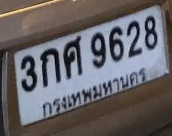num3: (19, 53, 38, 93)
txt01: (38, 47, 61, 89)
txt33: (61, 34, 85, 81)
